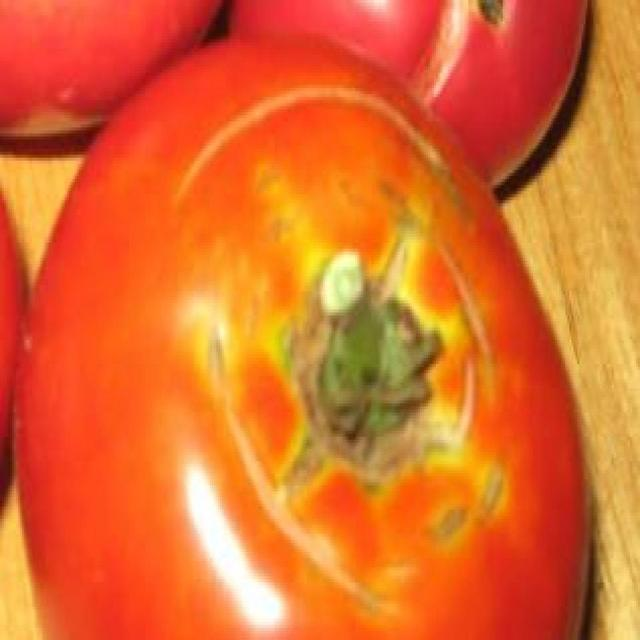Cracking Fruit: (61, 36, 311, 326)
